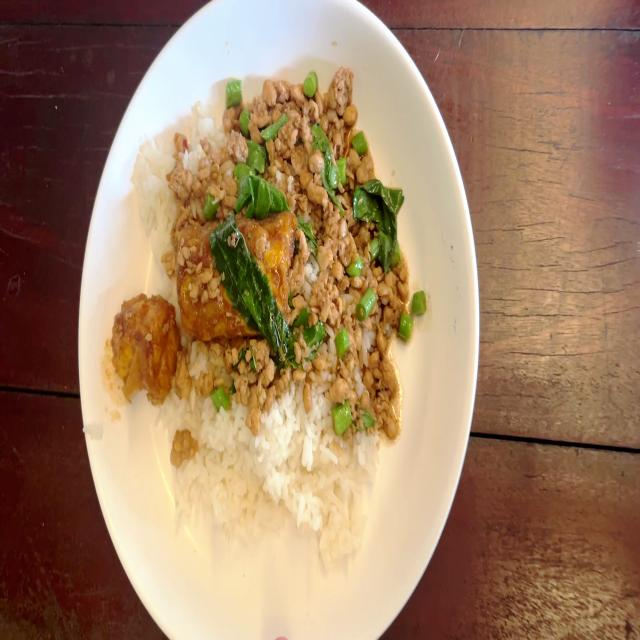fried_tofo: (177, 215, 292, 333), (112, 294, 173, 399)
minced_pork: (218, 70, 406, 212), (291, 208, 406, 426), (175, 333, 303, 412)
rice: (170, 416, 381, 551), (137, 117, 195, 234)
stir_fried_basil: (108, 62, 422, 575)
